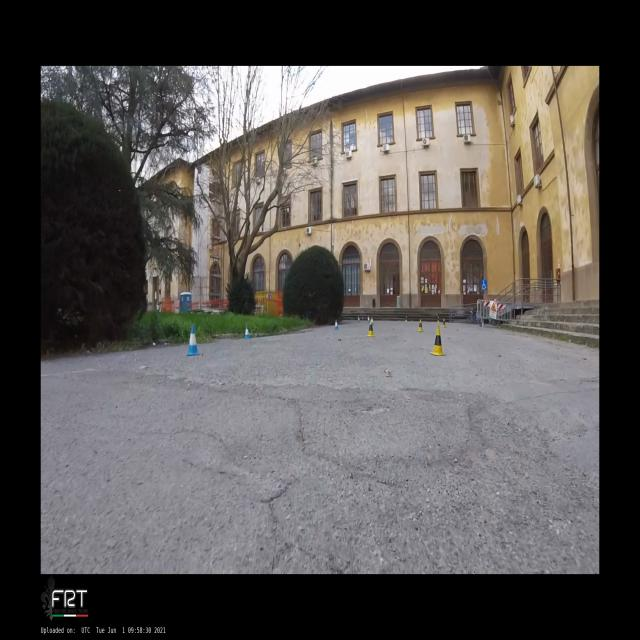blue_cone: (187, 325, 200, 356), (243, 325, 251, 340), (335, 319, 338, 330), (371, 316, 374, 325), (358, 316, 360, 321), (368, 316, 369, 323)
yellow_cone: (429, 326, 446, 356), (367, 320, 375, 337), (416, 319, 424, 332), (442, 318, 446, 328), (438, 316, 439, 324)
